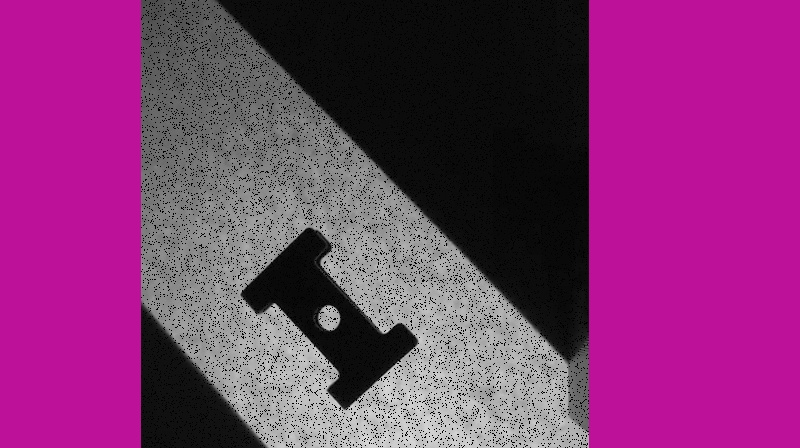O002: (237, 221, 418, 411)
